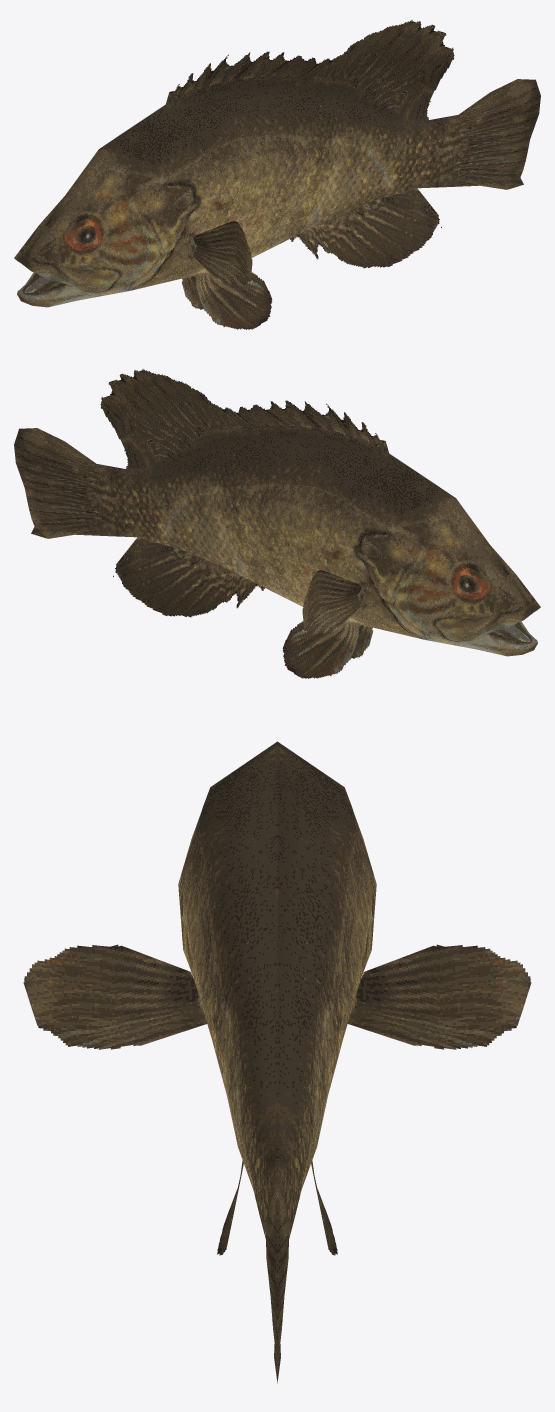
3 views of the same model, one above another, from view 1: azimuth 30°, elevation 25°; view 2: azimuth 150°, elevation 25°; view 3: azimuth 270°, elevation 25° (orthographic). The views are drawn at different scales.
Visible parts, largest first — view 1: fish_lp_0; view 2: fish_lp_0; view 3: fish_lp_0.
Boxes of the visible parts, <box> form: fish_lp_0: <box>14,20,540,329</box>; fish_lp_0: <box>14,369,540,678</box>; fish_lp_0: <box>23,741,531,1383</box>.
Size of the model in its own units: 1.15 by 0.5721 by 0.53.
Materials: 1 (1 with a texture image).
